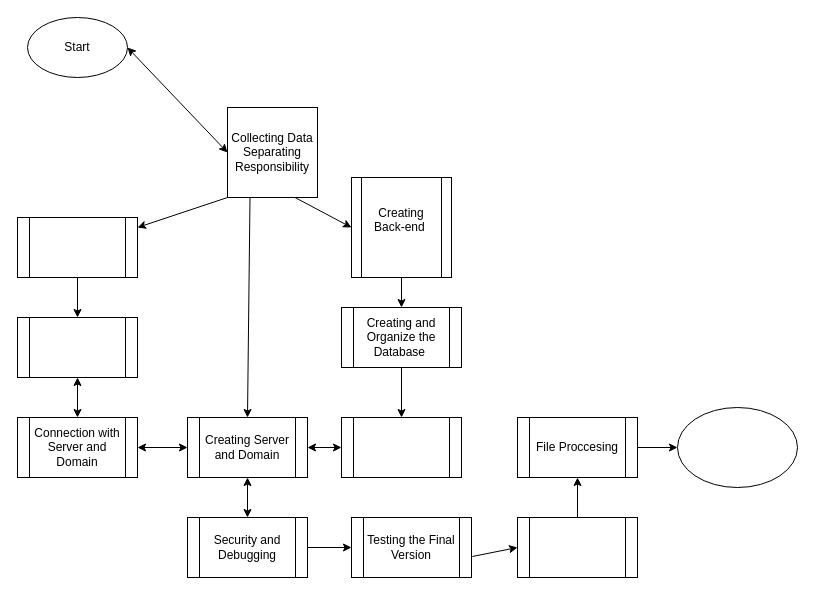
The diagram is 815 pixels wide and 595 high, and some of its shapes have lost their labels. The shapes that lost their labels are listed below. From the top down, each one's centre as x and y in pixels, then its label:
At point 77,247: "Front-End (Main design and collecting needs)".
At point 77,347: "Creating the connection with Backend".
At point 401,447: "Creating API".
At point 737,447: "End".
At point 577,547: "UML Diagrams".
